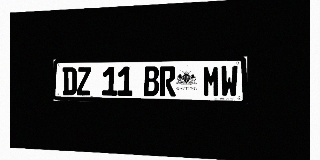1: (102, 67, 117, 96), (118, 66, 132, 96)
B: (144, 66, 159, 96)
D: (63, 67, 76, 95)
M: (203, 66, 220, 97)
R: (160, 66, 176, 96)
W: (220, 65, 238, 97)
Z: (77, 67, 91, 95)
